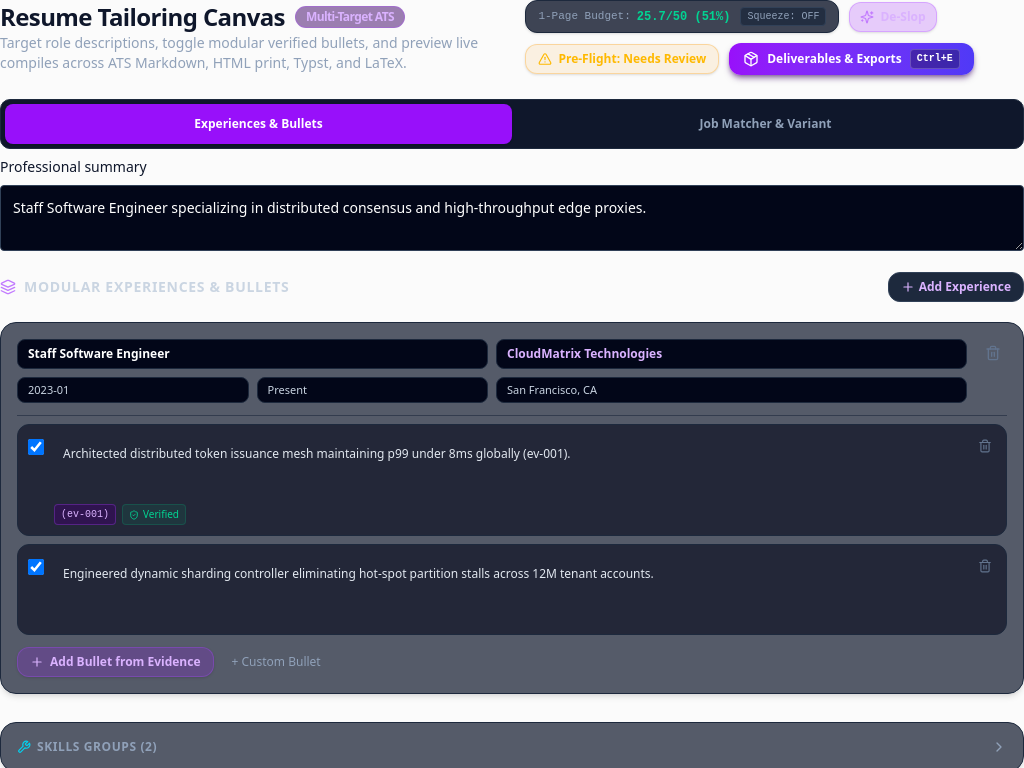
Test: Resume Tailor & Pre-Flight Gate Tests › Typst rendered preview › falls back to the source with an install hint when typst is missing
The image size is (1024, 768).
What coordinates should you click on to do the following:
click the button "Deliverables & Exports Ctrl+E"
I would click on:
 (851, 59)
Its box is [729,43,974,75].
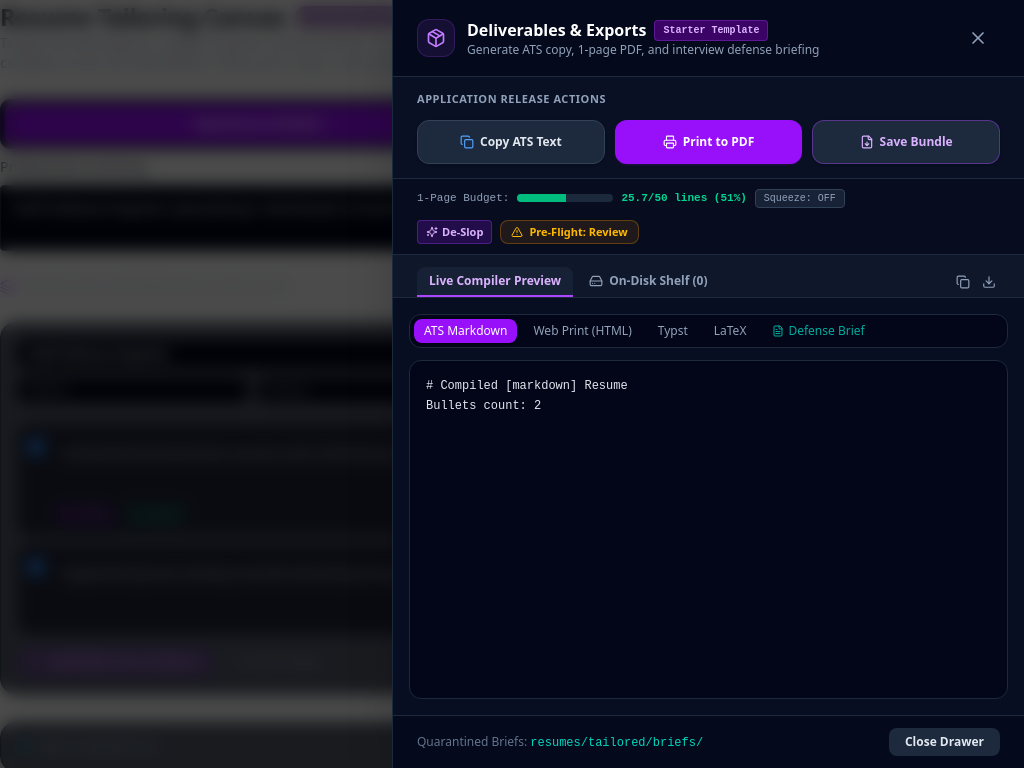
Expected: the button "ATS Markdown" is shown, [414,320,517,344]
What coordinates should you click on to do the following:
click the button "Typst"
I would click on:
 (673, 332)
Its box is [648,320,698,344].
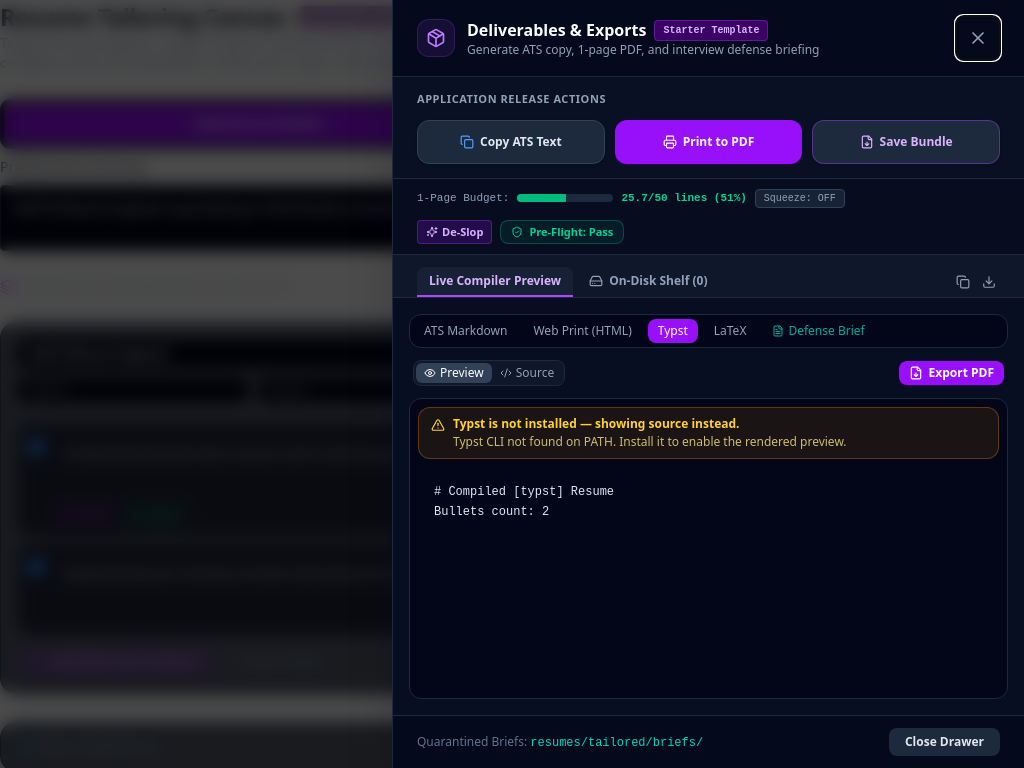
Expected: the text "Typst is not installed — showing source instead." is shown, [453,416,740,432]
Expected: the text "Install it to enable the rendered preview" is shown, [453,434,847,450]
Expected: the text "# Compiled [typst] Resume Bullets count: 2" is shown, [434,486,614,519]
